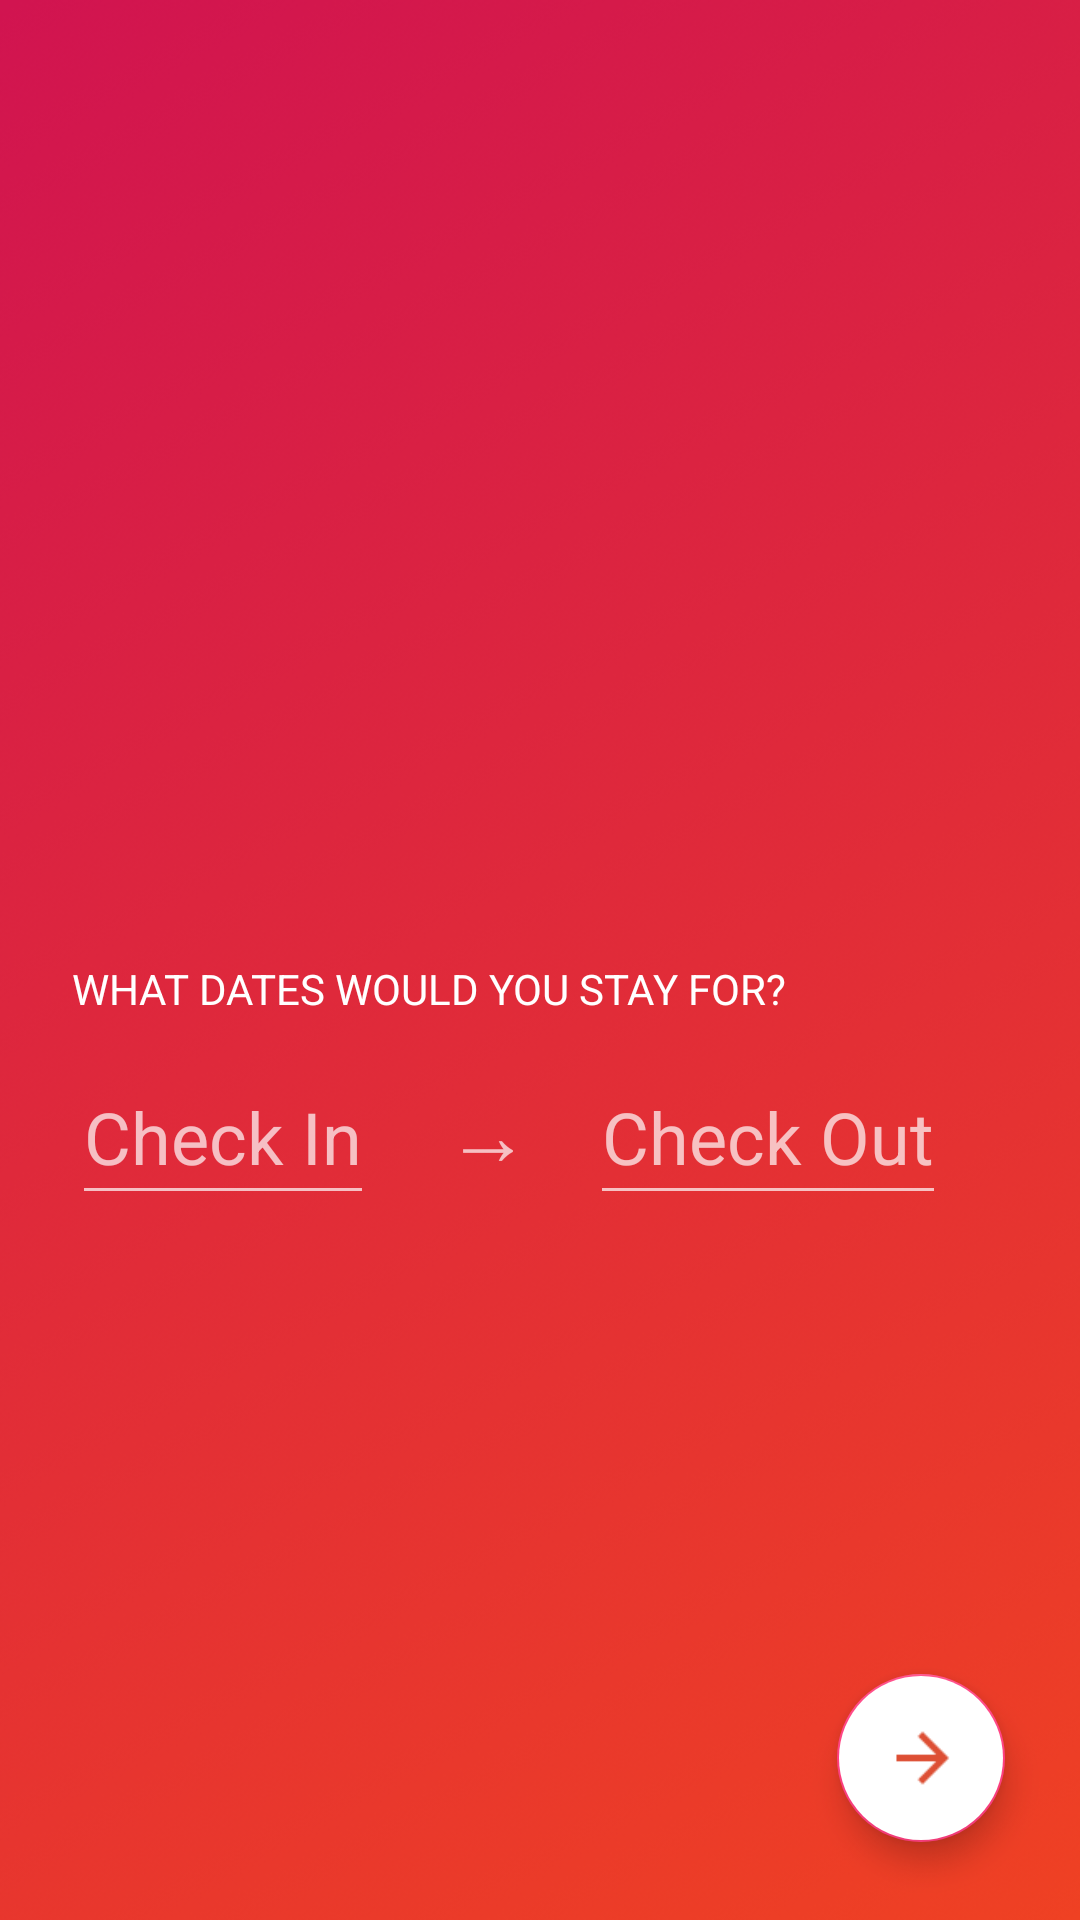

Named icons in this screenshot (1080×1920) and their bounding boxes, (x1, y1, x2, y2):
arrow: (837, 1674, 1005, 1842)
